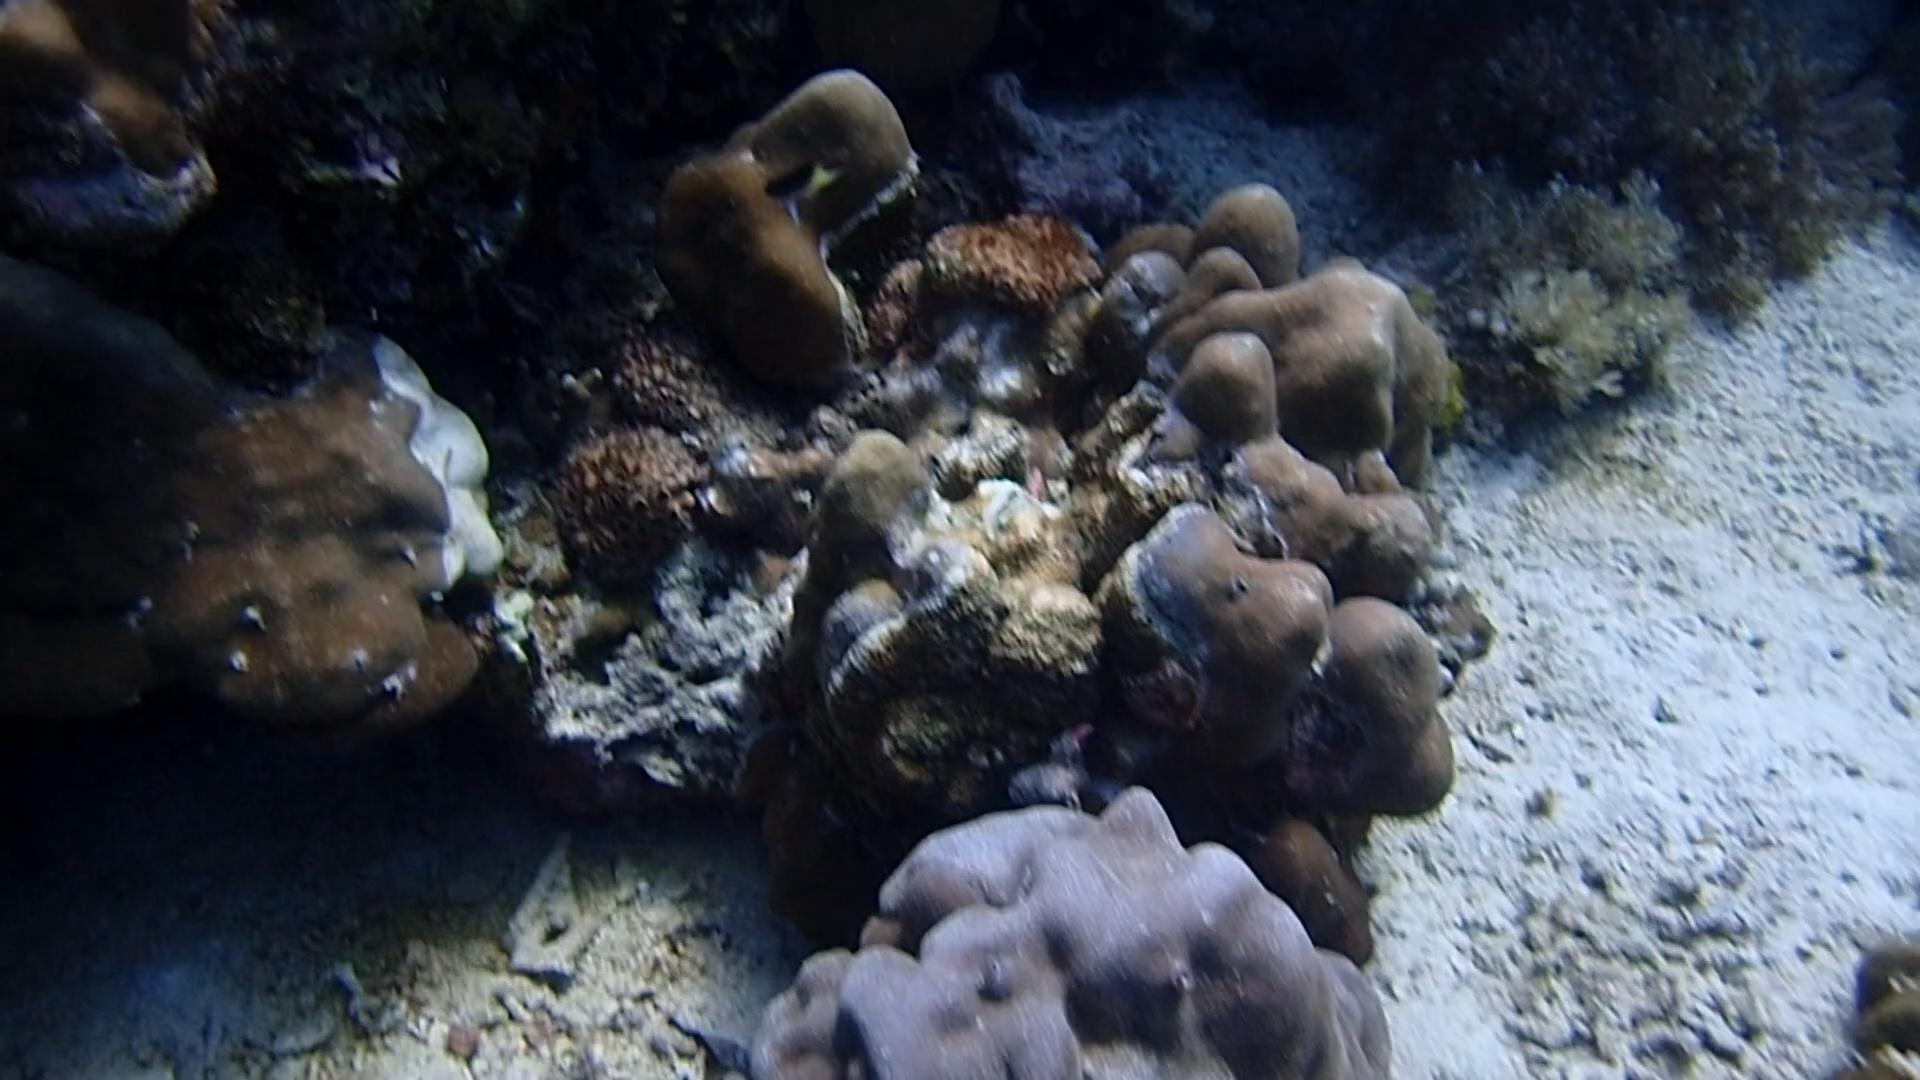Yellow Tail: (753, 142, 847, 229)
